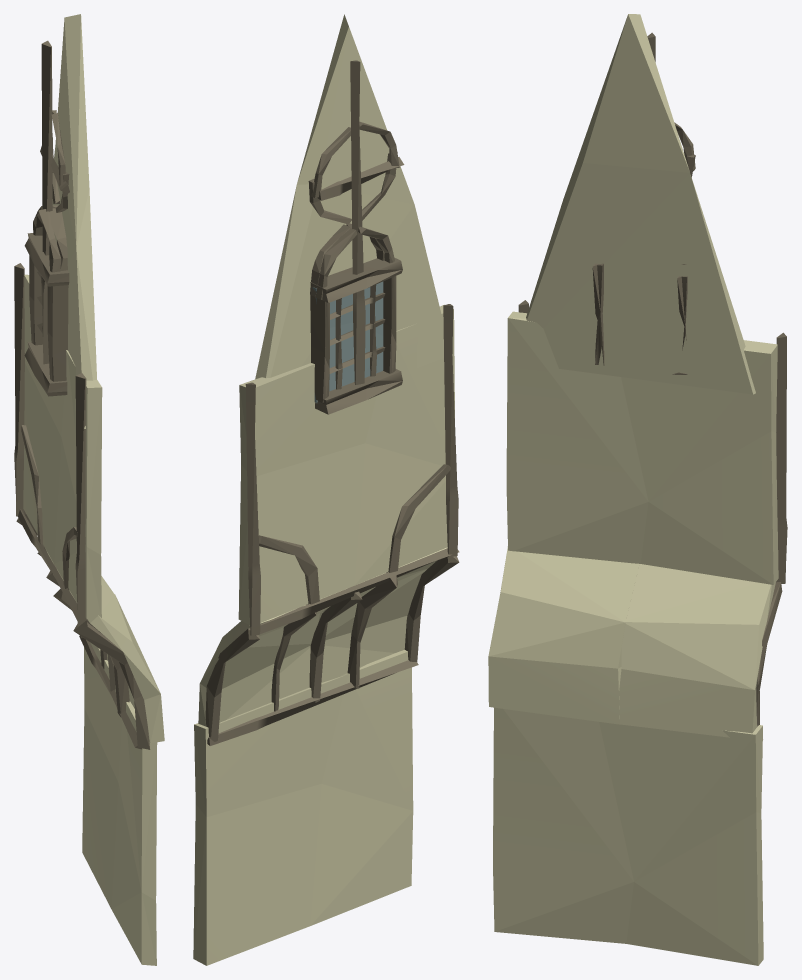
File: MillFrontWall.fbx
The picture shows the model from 3 angles, left to right: view 1: azimuth 30°, elevation 25°; view 2: azimuth 150°, elevation 25°; view 3: azimuth 270°, elevation 25°; orthographic projection.
Visible parts, largest first — view 1: MillFrontWall_Merged; view 2: MillFrontWall_Merged; view 3: MillFrontWall_Merged.
Boxes of the visible parts, <box> form: MillFrontWall_Merged: <box>14,14,164,965</box>; MillFrontWall_Merged: <box>193,14,459,965</box>; MillFrontWall_Merged: <box>488,14,787,965</box>.
Bounding box in the file's own units: 331 × 1971 × 585.
